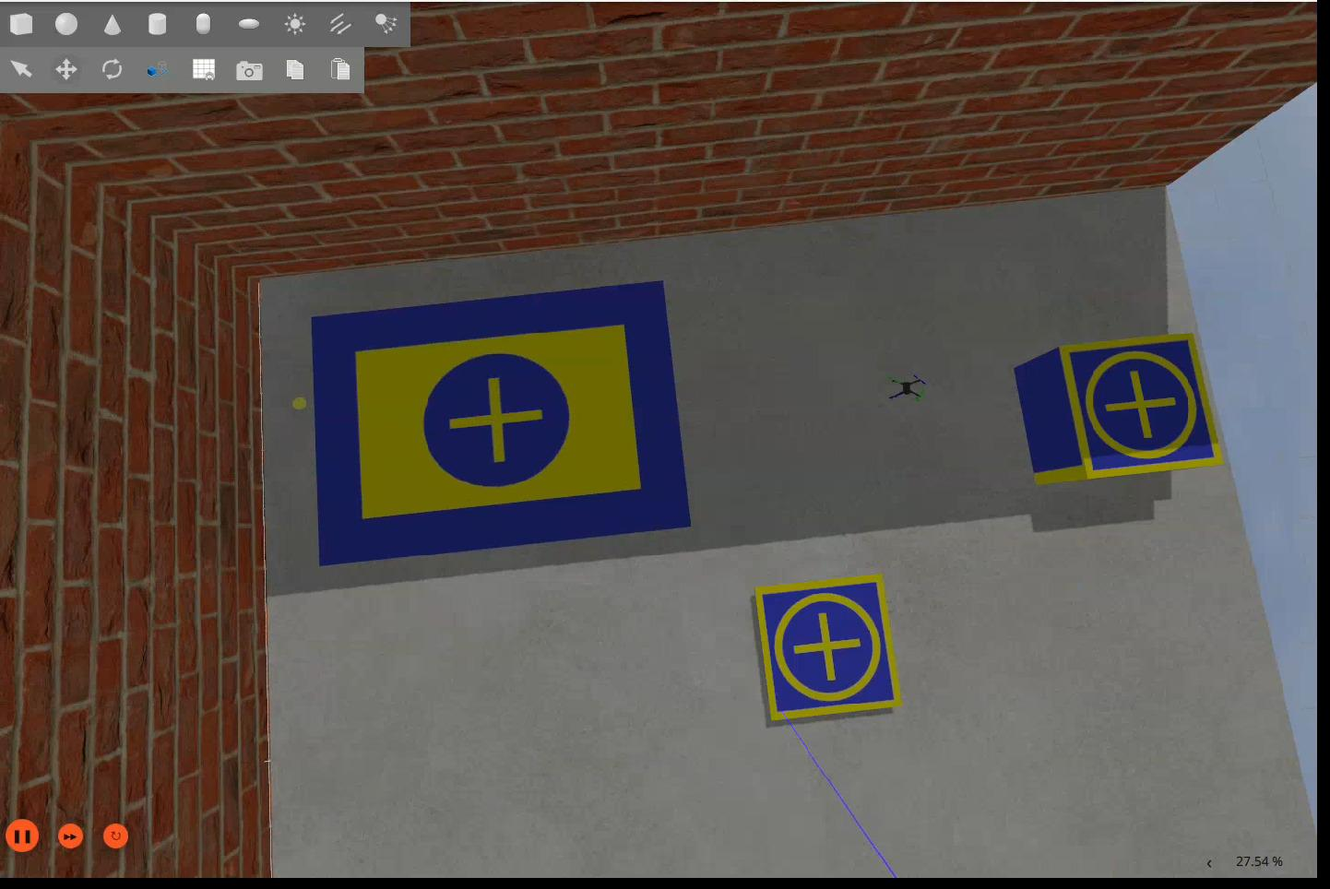large_base: (304, 281, 696, 571)
small_base: (1054, 335, 1229, 486), (754, 575, 902, 727)
